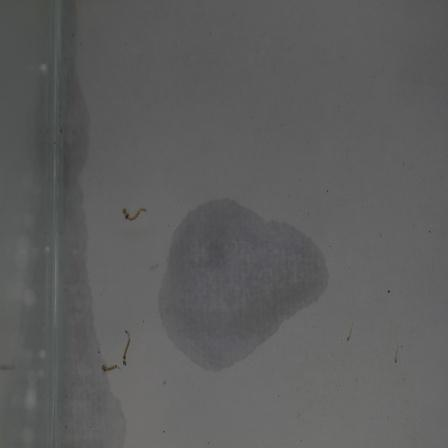Jentik-Nyamuk: (98, 325, 135, 379), (118, 199, 150, 229)
